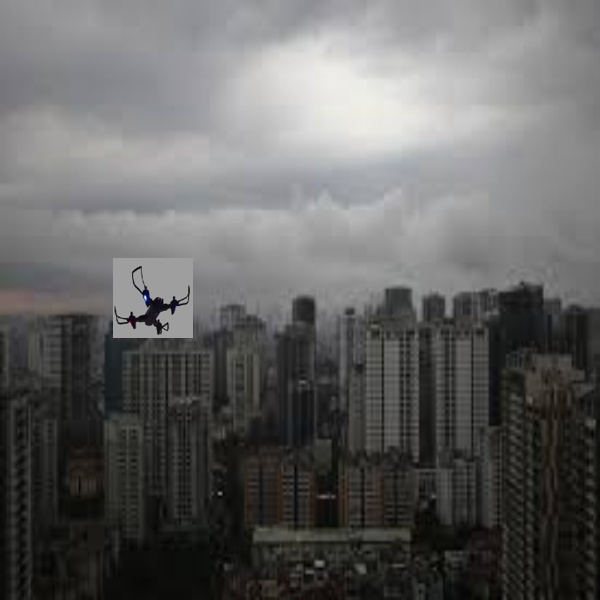drone: (110, 259, 193, 340)
